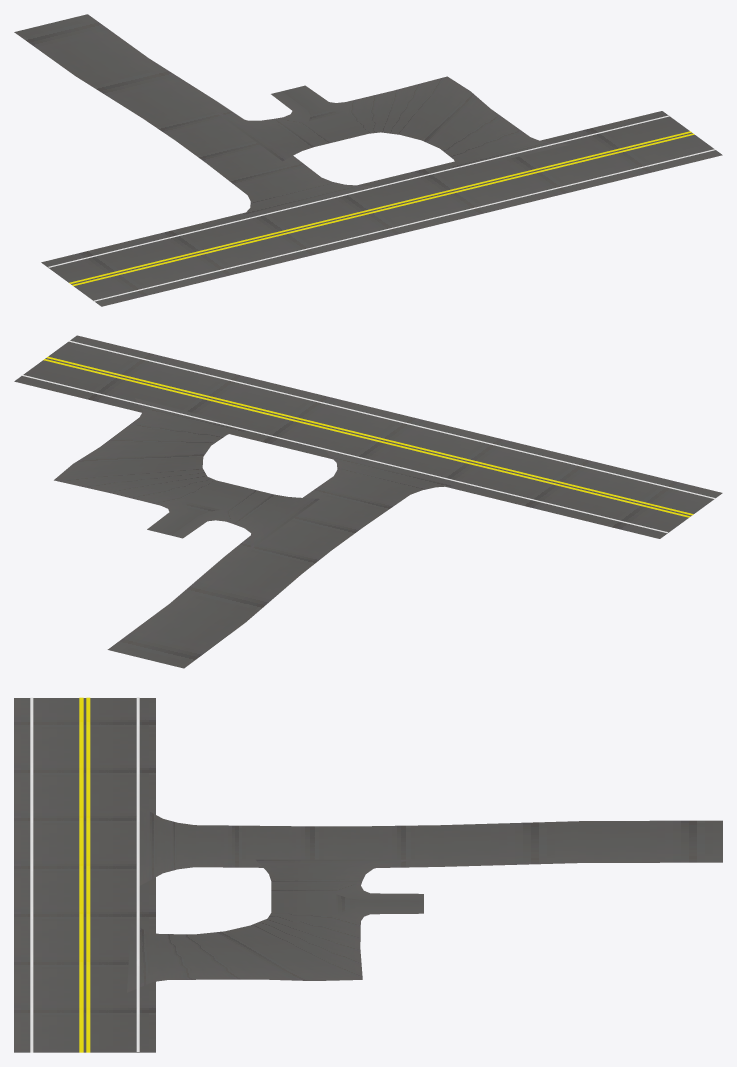
File: Road1.fbx
3 renders of one model, top to bottom at view 1: azimuth 30°, elevation 25°; view 2: azimuth 150°, elevation 25°; view 3: azimuth 270°, elevation 25°, orthographic. The views are drawn at different scales.
Visible parts, largest first — view 1: SM_Road_02.mo; view 2: SM_Road_02.mo; view 3: SM_Road_02.mo.
Boxes of the visible parts, x1,y1,x2,y2 form: SM_Road_02.mo: (14,14,722,306); SM_Road_02.mo: (14,335,722,668); SM_Road_02.mo: (14,697,722,1052).
Size of the model in its own units: 4000 by 3.6 by 3378.
